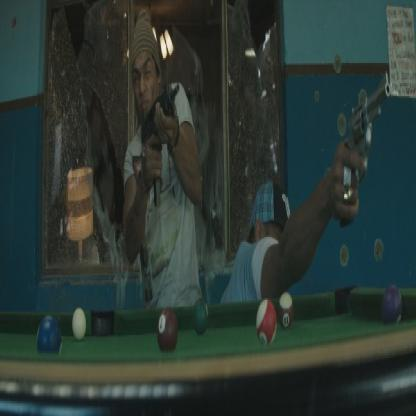Gun: (335, 68, 391, 230), (137, 76, 182, 210)
